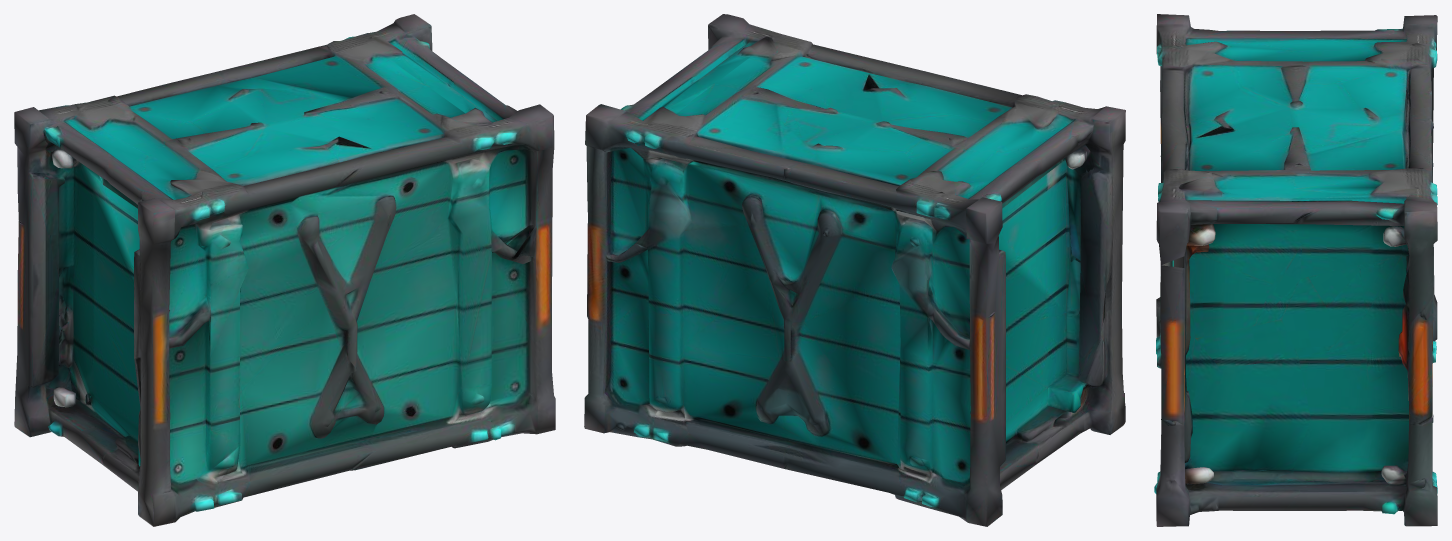
File: wall-module.glb
3 renders of one model, left to right at view 1: azimuth 30°, elevation 25°; view 2: azimuth 150°, elevation 25°; view 3: azimuth 270°, elevation 25°, orthographic.
Visible parts, largest first — view 1: Mesh_0; view 2: Mesh_0; view 3: Mesh_0.
Part boxes in pixels (x1,y1,x2,y2): Mesh_0: (14,14,555,526); Mesh_0: (584,14,1125,526); Mesh_0: (1154,14,1437,526).
Bounding box in the file's own units: 2.94 × 2.2 × 1.78.
Materials: 1 (1 with a texture image).
